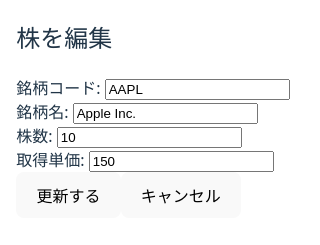
Scenario: EditStockForm › shows error message when ticker is empty and form is submitted
The image size is (320, 245).
Note: 銘柄コードを空にする
Clear the field labelled "銘柄コード:" at (197, 90), box [105, 79, 290, 100]
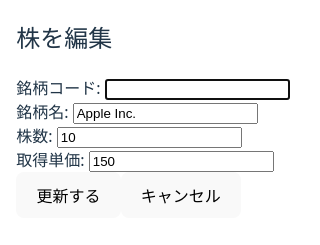
Note: 更新ボタンをクリック
Click the button "更新する" at (68, 195), box [16, 172, 121, 218]
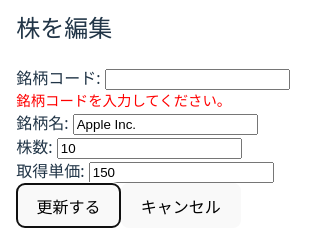
Expected: the text "銘柄コードを入力してください。" is shown, [16, 90, 231, 110]
